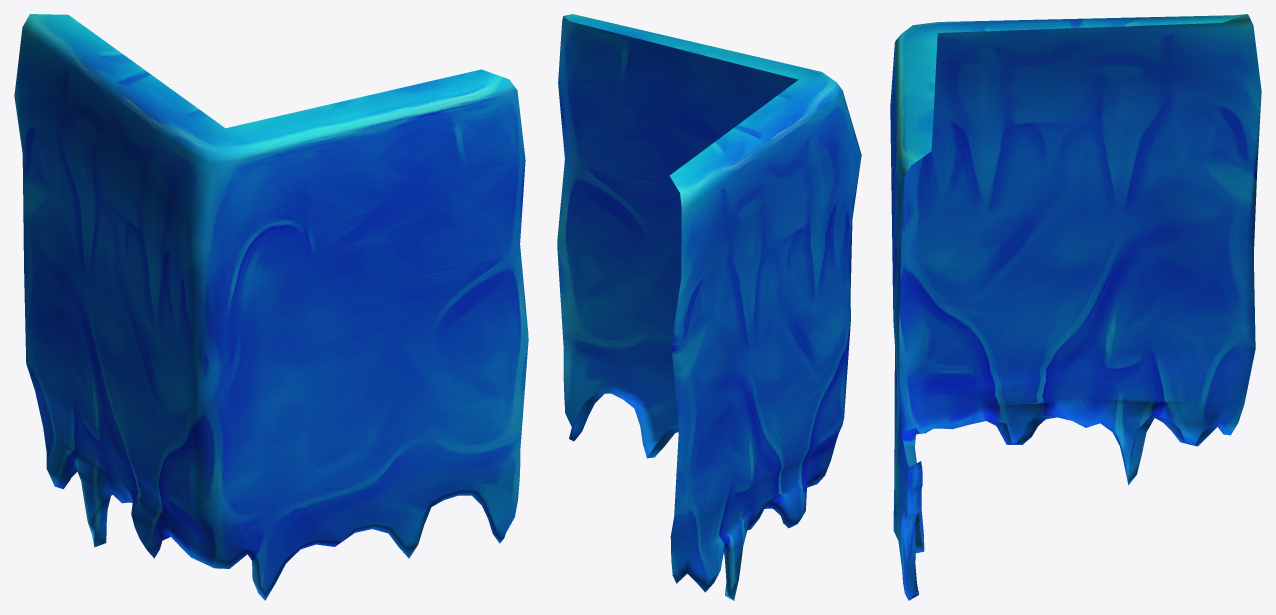
Rendered from IceCube3.fbx.
3 views of the same model, side by side, from view 1: azimuth 30°, elevation 25°; view 2: azimuth 150°, elevation 25°; view 3: azimuth 270°, elevation 25° (orthographic). The views are drawn at different scales.
Parts seen in each view (by area): view 1: ice_cube_3; view 2: ice_cube_3; view 3: ice_cube_3.
Part boxes in pixels (box(x1,y1,x2,y2)): ice_cube_3: box(14, 14, 528, 600); ice_cube_3: box(557, 14, 861, 600); ice_cube_3: box(890, 14, 1261, 600).
Size of the model in its own units: 98.85 by 139 by 99.67.
